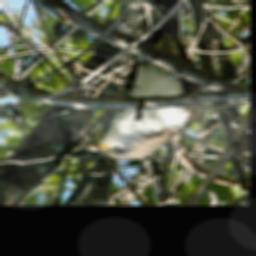Cuckoo: (78, 0, 204, 160)
